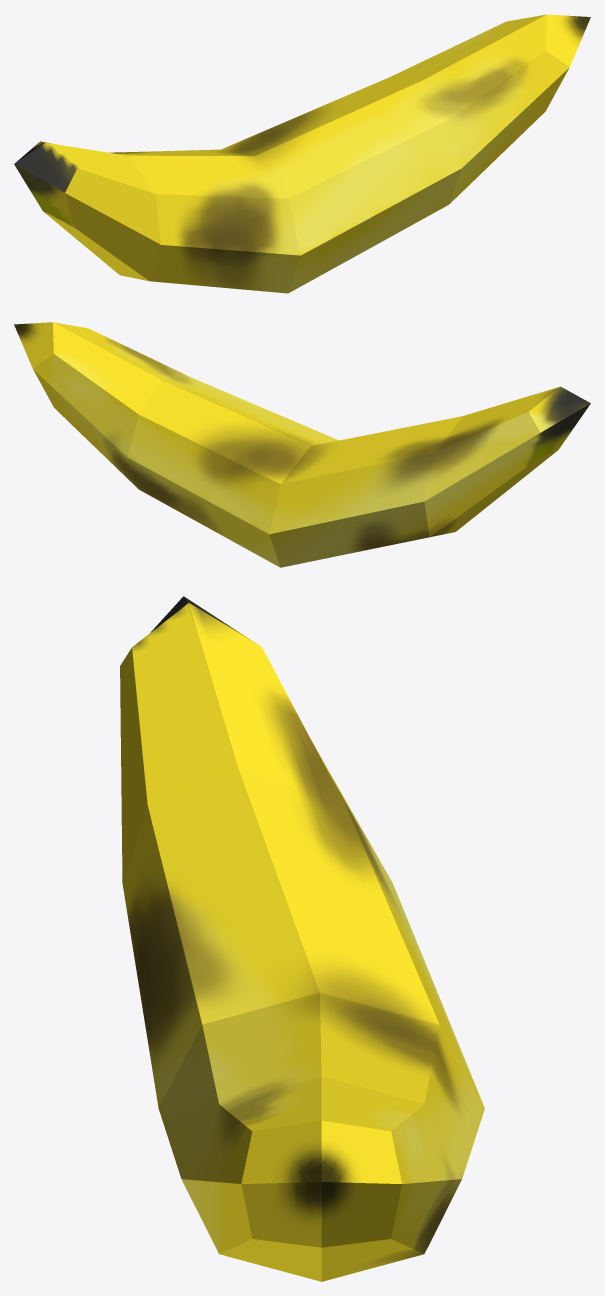
The model's file is banana.fbx.
The picture shows the model from 3 angles, top to bottom: view 1: azimuth 30°, elevation 25°; view 2: azimuth 150°, elevation 25°; view 3: azimuth 270°, elevation 25°; orthographic projection. The views are drawn at different scales.
Visible parts, largest first — view 1: banana; view 2: banana; view 3: banana.
Part boxes in pixels (x1,y1,x2,y2): banana: [14, 14, 590, 293]; banana: [14, 322, 590, 567]; banana: [120, 596, 484, 1281].
Bounding box in the file's own units: 5.09 × 1.83 × 1.48.
